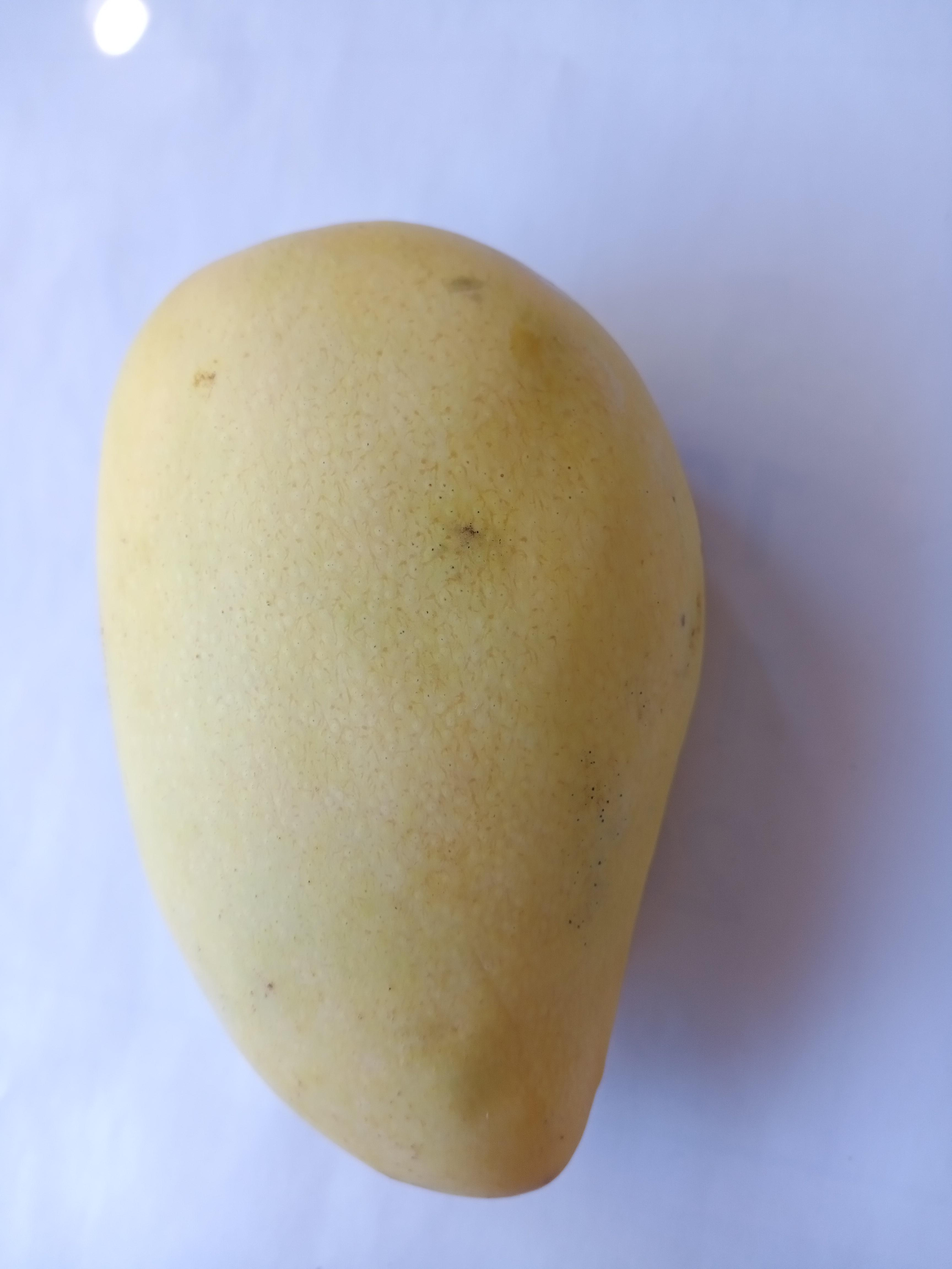Mango Ripe: (69, 182, 741, 1236)
